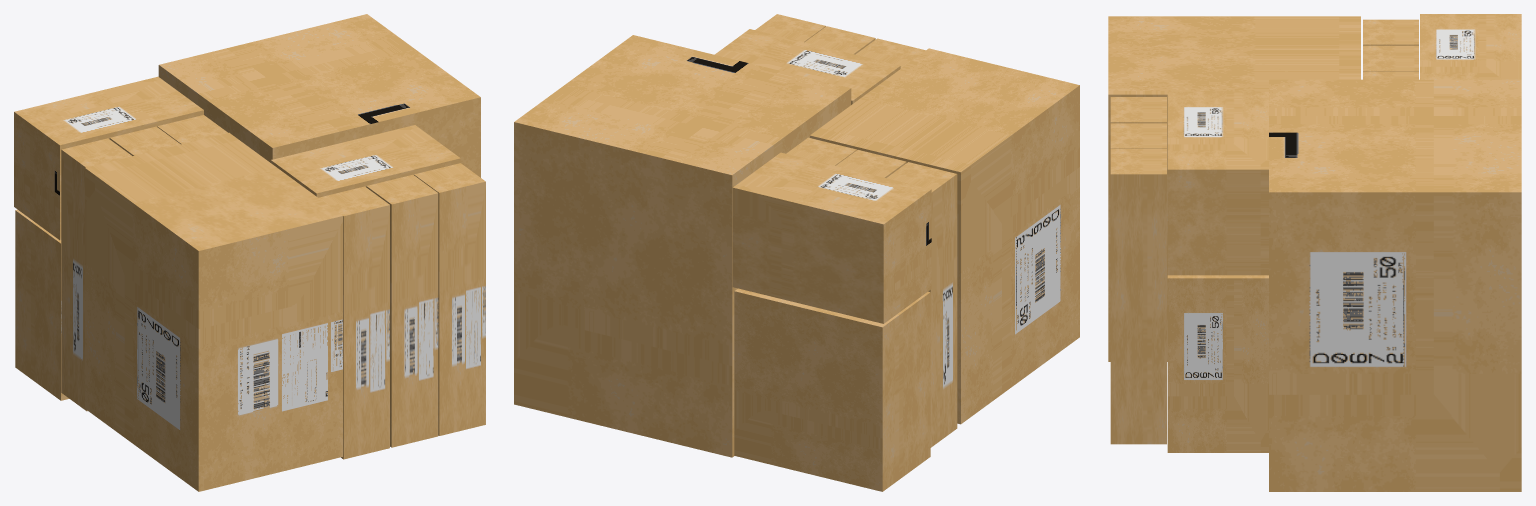
File: boxes.dae
3 renders of one model, left to right at view 1: azimuth 30°, elevation 25°; view 2: azimuth 150°, elevation 25°; view 3: azimuth 270°, elevation 25°, orthographic. The views are drawn at different scales.
Visible parts, largest first — view 1: node; view 2: node; view 3: node.
Part boxes in pixels (x1,y1,x2,y2): node: [14, 14, 485, 491]; node: [514, 14, 1079, 491]; node: [1108, 14, 1521, 491].
Size of the model in its own units: 1.1 by 0.8 by 1.
